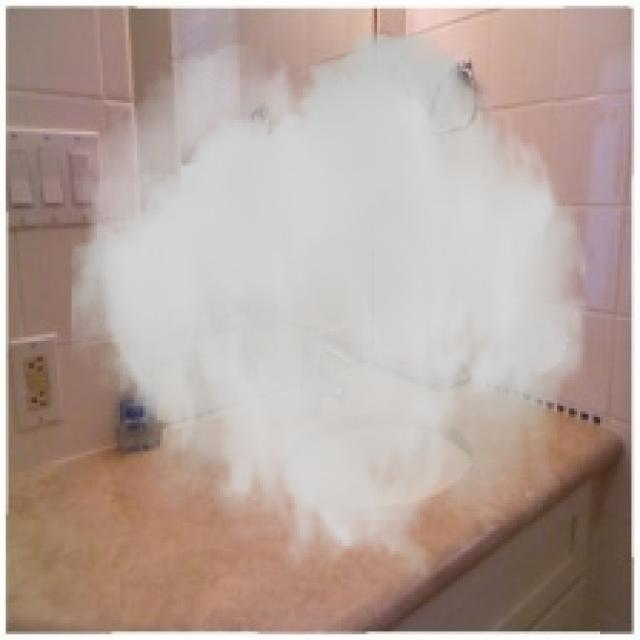Smoke: (71, 31, 594, 588)
